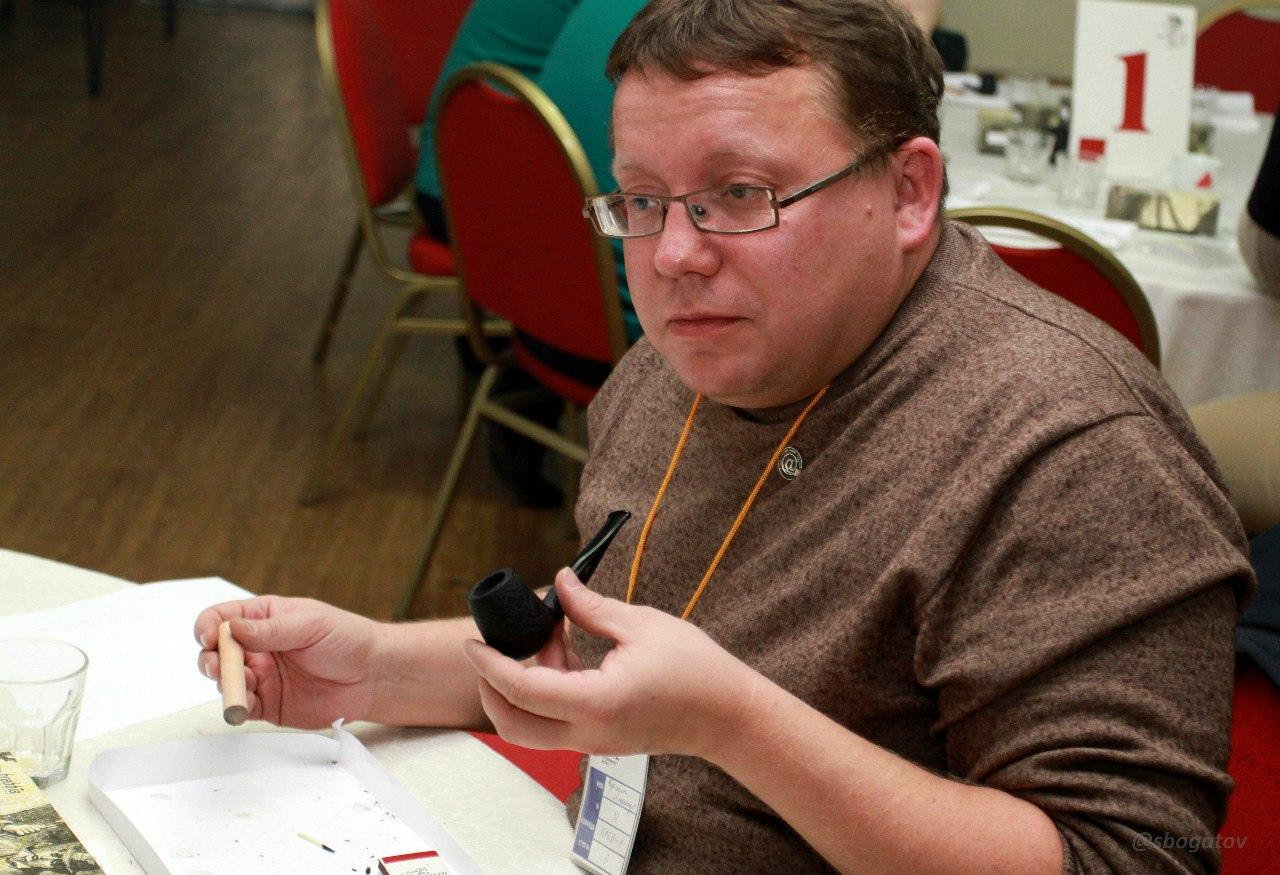trubka: (469, 510, 633, 663)
